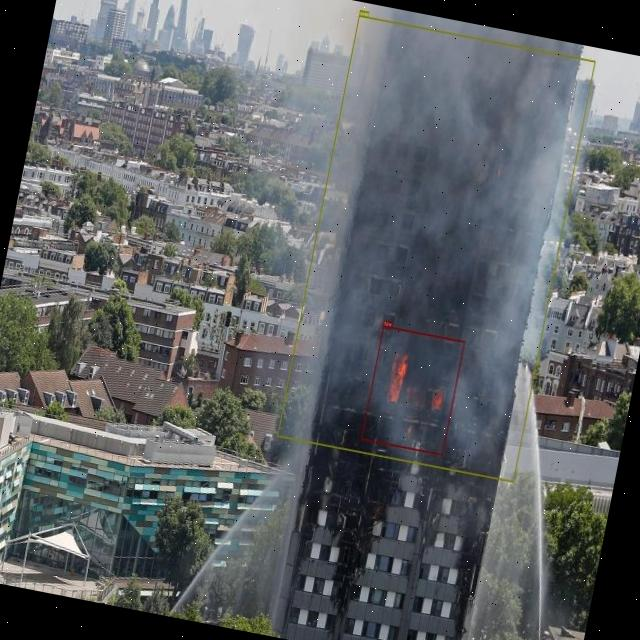fire: (361, 325, 465, 456)
smoke: (278, 15, 596, 482)
